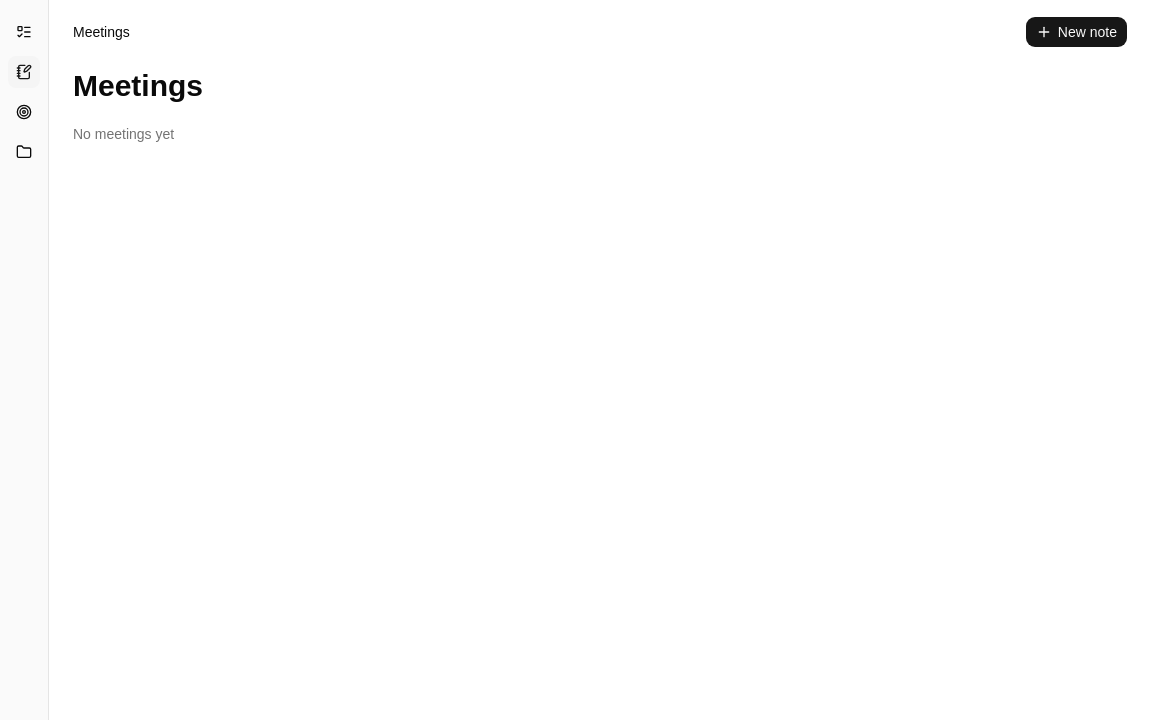
Test case: Board › shows the four columns in order, with their names and counts
Click the 1st link named "Work": (24, 32) x1=8 y1=16 x2=40 y2=48
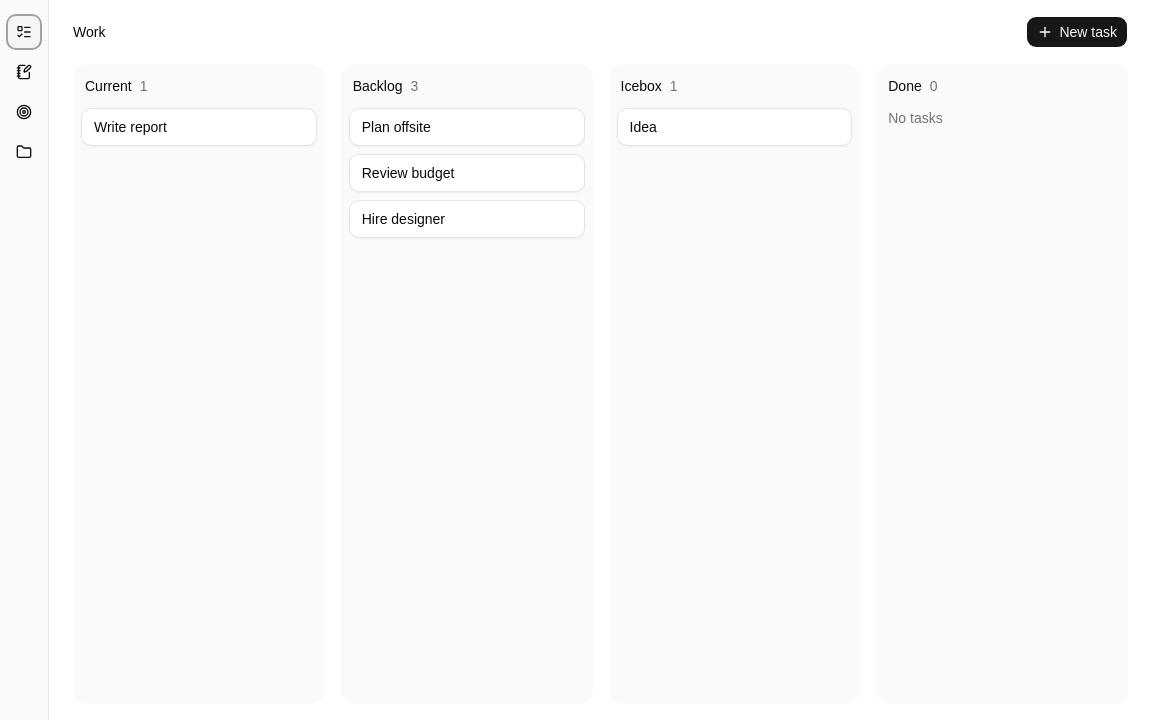
Expected: the button "New task" is shown, x1=1026 y1=16 x2=1128 y2=48
Expected: the heading "Current 1" is shown, x1=85 y1=78 x2=148 y2=94
Expected: the heading "Backlog 3" is shown, x1=353 y1=78 x2=418 y2=94
